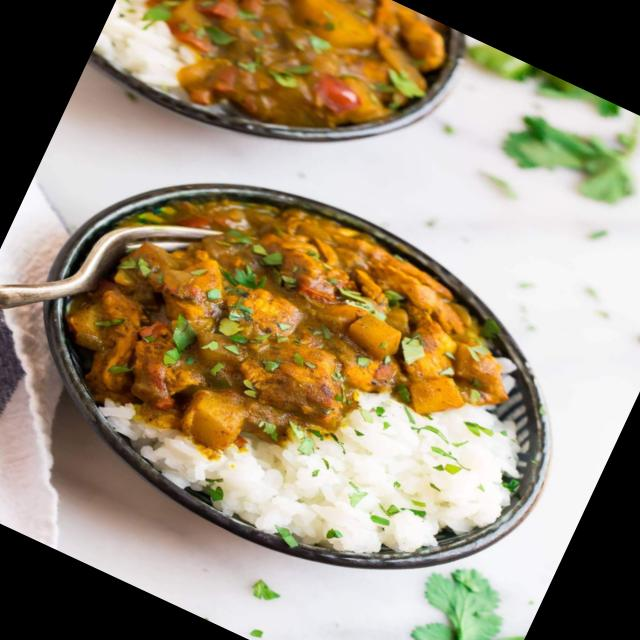chicken: (31, 119, 452, 494), (122, 0, 419, 158)
rice: (155, 312, 536, 634), (87, 0, 202, 99)
